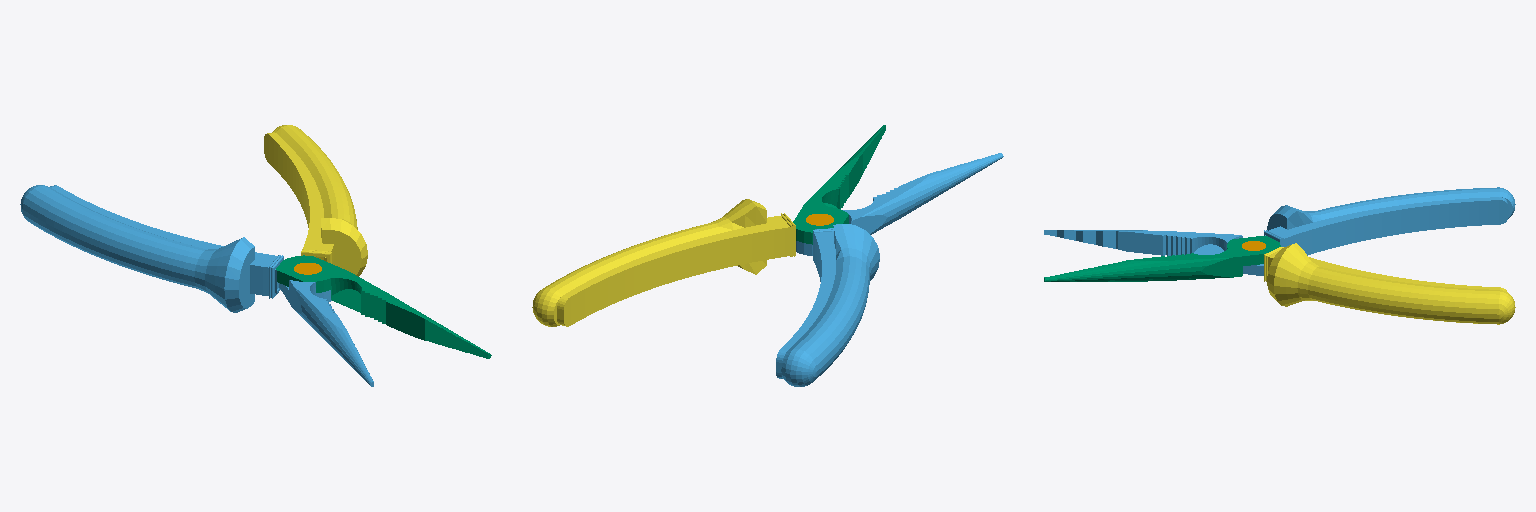
robot.urdf — pliers:
<?xml version='1.0' encoding='utf-8'?>
<robot name="pliers">
  <link name="link_5_screw">
    <inertial>
      <origin xyz="-4.77794e-20 -0.0106188 6.16509e-20" rpy="0 0 0" />
      <mass value="0.01" />
      <inertia ixx="1.2929e-07" ixy="7.77082e-24" ixz="9.63295e-25" iyy="1.2929e-07" iyz="-1.42529e-23" izz="1.2358e-07" />
    </inertial>
    <visual>
      <origin xyz="-0.000000 -0.000000 -0.000000" rpy="0 0 0" />
      <geometry>
        <mesh filename="objs/5_screw__material_0_24.obj" />
      </geometry>
    </visual>
  </link>
  <link name="link_6_leg">
    <inertial>
      <origin xyz="-0.0252522 0.0208424 -0.00471714" rpy="0 0 0" />
      <mass value="0.1" />
      <inertia ixx="0.000149546" ixy="3.09069e-05" ixz="3.8193e-07" iyy="1.92545e-05" iyz="-2.01206e-07" izz="0.00016396" />
    </inertial>
    <visual>
      <origin xyz="-0.000615 0.010370 -0.004500" rpy="0 0 0" />
      <geometry>
        <mesh filename="objs/6_leg__material_0_24.obj" />
      </geometry>
    </visual>
    <visual>
      <origin xyz="-0.000615 0.010370 -0.004500" rpy="0 0 0" />
      <geometry>
        <mesh filename="objs/6_leg__material_2_24.obj" />
      </geometry>
    </visual>
    <visual>
      <origin xyz="-0.000615 0.010370 -0.004500" rpy="0 0 0" />
      <geometry>
        <mesh filename="objs/6_leg__material_3_24.obj" />
      </geometry>
    </visual>
    <collision>
      <origin xyz="0 0 0" rpy="0 0 0" />
      <geometry>
        <mesh filename="collision/link_6_leg/link_6_leg_0.obj" />
      </geometry>
    </collision>
    <collision>
      <origin xyz="0 0 0" rpy="0 0 0" />
      <geometry>
        <mesh filename="collision/link_6_leg/link_6_leg_1.obj" />
      </geometry>
    </collision>
    <collision>
      <origin xyz="0 0 0" rpy="0 0 0" />
      <geometry>
        <mesh filename="collision/link_6_leg/link_6_leg_2.obj" />
      </geometry>
    </collision>
    <collision>
      <origin xyz="0 0 0" rpy="0 0 0" />
      <geometry>
        <mesh filename="collision/link_6_leg/link_6_leg_3.obj" />
      </geometry>
    </collision>
    <collision>
      <origin xyz="0 0 0" rpy="0 0 0" />
      <geometry>
        <mesh filename="collision/link_6_leg/link_6_leg_4.obj" />
      </geometry>
    </collision>
    <collision>
      <origin xyz="0 0 0" rpy="0 0 0" />
      <geometry>
        <mesh filename="collision/link_6_leg/link_6_leg_5.obj" />
      </geometry>
    </collision>
  </link>
  <link name="link_7_jaw">
    <inertial>
      <origin xyz="0.00550841 -0.0232997 -0.00398383" rpy="0 0 0" />
      <mass value="0.03" />
      <inertia ixx="1.29187e-05" ixy="3.37476e-06" ixz="1.05931e-07" iyy="1.53127e-06" iyz="-2.23714e-07" izz="1.41398e-05" />
    </inertial>
    <visual>
      <origin xyz="-0.001766 0.011125 -0.004500" rpy="0 0 0" />
      <geometry>
        <mesh filename="objs/7_jaw__material_0_24.obj" />
      </geometry>
    </visual>
    <collision>
      <origin xyz="0 0 0" rpy="0 0 0" />
      <geometry>
        <mesh filename="collision/link_7_jaw.obj" />
      </geometry>
    </collision>
  </link>
  <link name="link_8_handle">
    <inertial>
      <origin xyz="0.0288883 0.0481768 -0.0045" rpy="0 0 0" />
      <mass value="0.1" />
      <inertia ixx="7.10915e-05" ixy="-2.48047e-05" ixz="4.42739e-15" iyy="1.57976e-05" iyz="1.20684e-14" izz="8.11561e-05" />
    </inertial>
    <visual>
      <origin xyz="-0.001766 0.011125 -0.004500" rpy="0 0 0" />
      <geometry>
        <mesh filename="objs/8_handle__material_2_24.obj" />
      </geometry>
    </visual>
    <visual>
      <origin xyz="-0.001766 0.011125 -0.004500" rpy="0 0 0" />
      <geometry>
        <mesh filename="objs/8_handle__material_0_24.obj" />
      </geometry>
    </visual>
    <visual>
      <origin xyz="-0.001766 0.011125 -0.004500" rpy="0 0 0" />
      <geometry>
        <mesh filename="objs/8_handle__material_3_24.obj" />
      </geometry>
    </visual>
    <collision>
      <origin xyz="0 0 0" rpy="0 0 0" />
      <geometry>
        <mesh filename="collision/link_8_handle/link_8_handle_0.obj" />
      </geometry>
    </collision>
    <collision>
      <origin xyz="0 0 0" rpy="0 0 0" />
      <geometry>
        <mesh filename="collision/link_8_handle/link_8_handle_1.obj" />
      </geometry>
    </collision>
    <collision>
      <origin xyz="0 0 0" rpy="0 0 0" />
      <geometry>
        <mesh filename="collision/link_8_handle/link_8_handle_2.obj" />
      </geometry>
    </collision>
    <collision>
      <origin xyz="0 0 0" rpy="0 0 0" />
      <geometry>
        <mesh filename="collision/link_8_handle/link_8_handle_3.obj" />
      </geometry>
    </collision>
    <collision>
      <origin xyz="0 0 0" rpy="0 0 0" />
      <geometry>
        <mesh filename="collision/link_8_handle/link_8_handle_4.obj" />
      </geometry>
    </collision>
    <collision>
      <origin xyz="0 0 0" rpy="0 0 0" />
      <geometry>
        <mesh filename="collision/link_8_handle/link_8_handle_5.obj" />
      </geometry>
    </collision>
  </link>
  <joint name="joint_6_to_5" type="fixed">
    <parent link="link_5_screw" />
    <child link="link_6_leg" />
    <origin xyz="0.0006151763679923397 -0.01037045809602992 0.0045000000945292365" rpy="0 0 0" />
  </joint>
  <joint name="joint_8_to_5" type="fixed">
    <parent link="link_5_screw" />
    <child link="link_8_handle" />
    <origin xyz="0.0017661999467323268 -0.011125084074410943 0.004500000094529294" rpy="0 0 0" />
  </joint>
  <joint name="joint_7_to_8" type="fixed">
    <parent link="link_8_handle" />
    <child link="link_7_jaw" />
    <origin xyz="0.000000 0.000000 0.000000" rpy="0.000000 -0.000000 0.000000" />
  </joint>
</robot>

--- Render facts (derived) ---
Views: 3 orthographic renders of the robot side by side, from view 1: azimuth 30°, elevation 25°; view 2: azimuth 150°, elevation 25°; view 3: azimuth 270°, elevation 25°.
Model pliers with 4 links and 3 joints (3 fixed), rooted at link_5_screw, posed every joint at zero.
Links seen in each view (by area): view 1: link_6_leg, link_8_handle, link_7_jaw; view 2: link_8_handle, link_6_leg, link_7_jaw; view 3: link_6_leg, link_8_handle, link_7_jaw.
Boxes of the visible links, <box> form: link_6_leg: <box>20,185,373,386</box>; link_8_handle: <box>264,125,367,276</box>; link_7_jaw: <box>276,255,491,358</box>; link_8_handle: <box>532,199,795,326</box>; link_6_leg: <box>776,153,1003,386</box>; link_7_jaw: <box>793,125,885,244</box>; link_6_leg: <box>1044,187,1515,275</box>; link_8_handle: <box>1264,243,1515,324</box>; link_7_jaw: <box>1044,236,1280,281</box>.
Bounding box of the posed robot: 0.1125 × 0.1912 × 0.027 m (x, y, z).
8 mesh visuals loaded from 8 distinct referenced files (8 OBJ).
